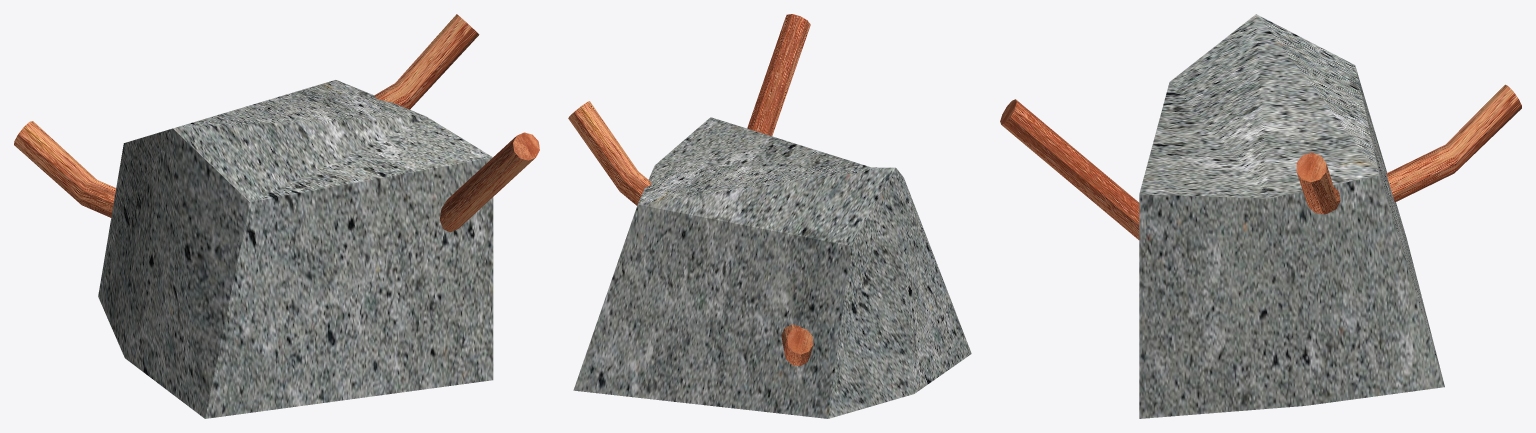
Rendered from Rubble_3.fbx.
3 views of the same model, side by side, from view 1: azimuth 30°, elevation 25°; view 2: azimuth 150°, elevation 25°; view 3: azimuth 270°, elevation 25° (orthographic). The views are drawn at different scales.
Visible parts, largest first — view 1: Rubble_1; view 2: Rubble_1; view 3: Rubble_1.
Part boxes in pixels (left/top/right/bottom): Rubble_1: left=14, top=14, right=539, bottom=418; Rubble_1: left=568, top=14, right=971, bottom=418; Rubble_1: left=1000, top=14, right=1521, bottom=418.
Size of the model in its own units: 106 by 83.04 by 130.
